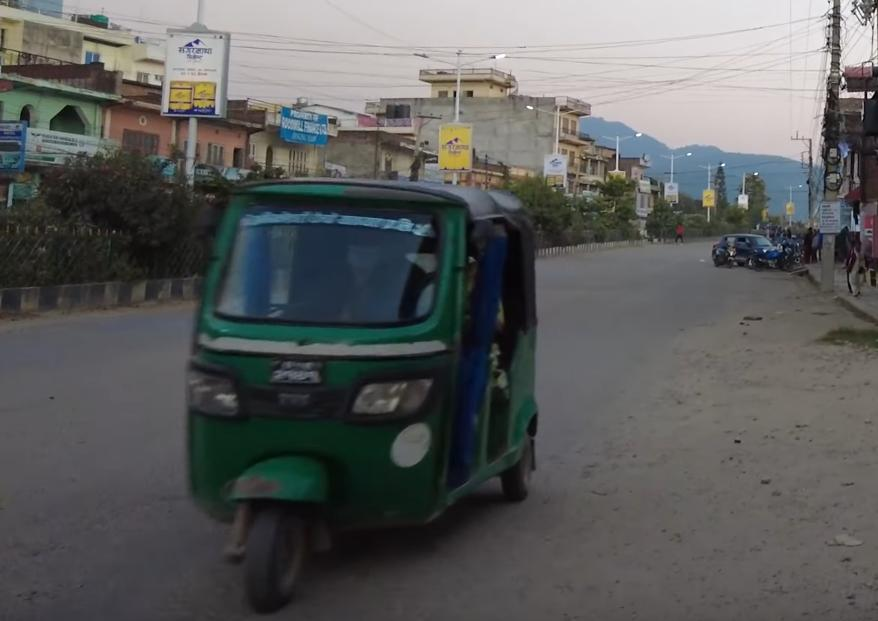auto_rickshaw: (190, 168, 546, 617)
